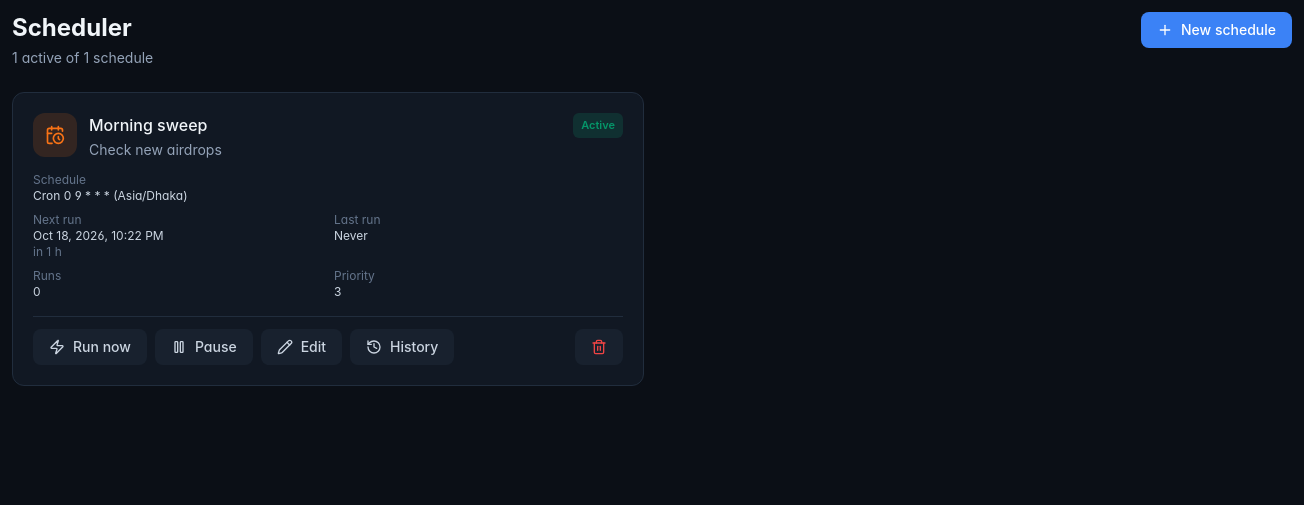
Scenario: Scheduler page › reports the task that Run now created
Click the button "Run now": click(90, 346) [33,328,147,364]
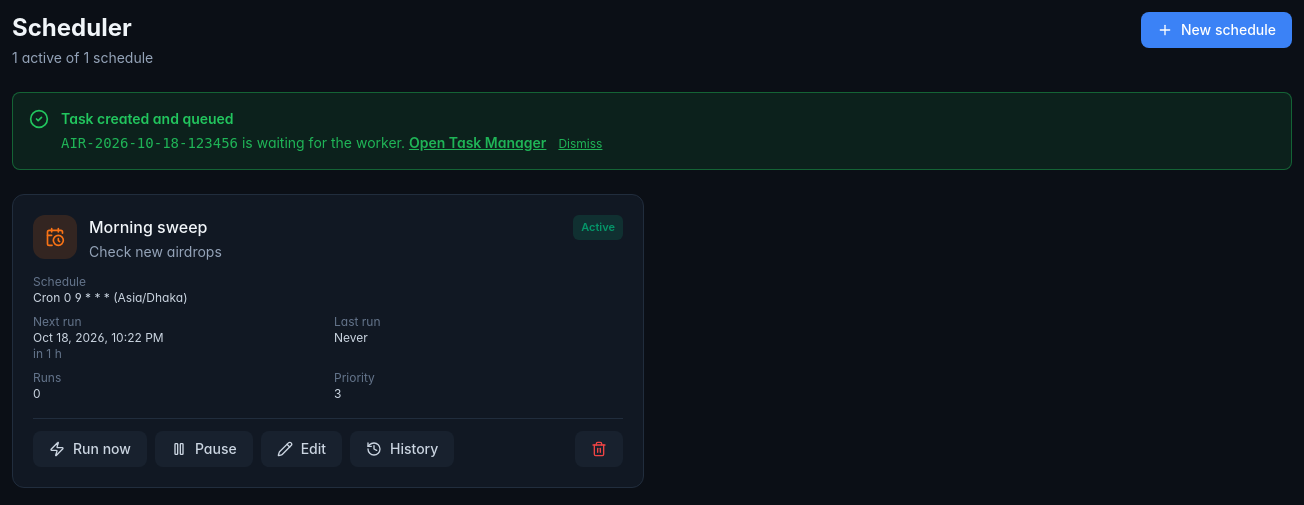
Expected: the text "AIR-2026-10-18-123456" is shown, [61,135,238,151]
